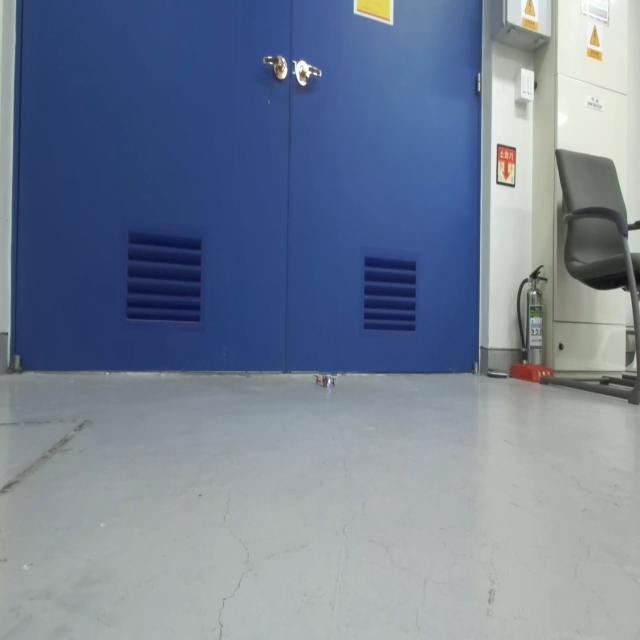crazyflie: (312, 370, 337, 393)
